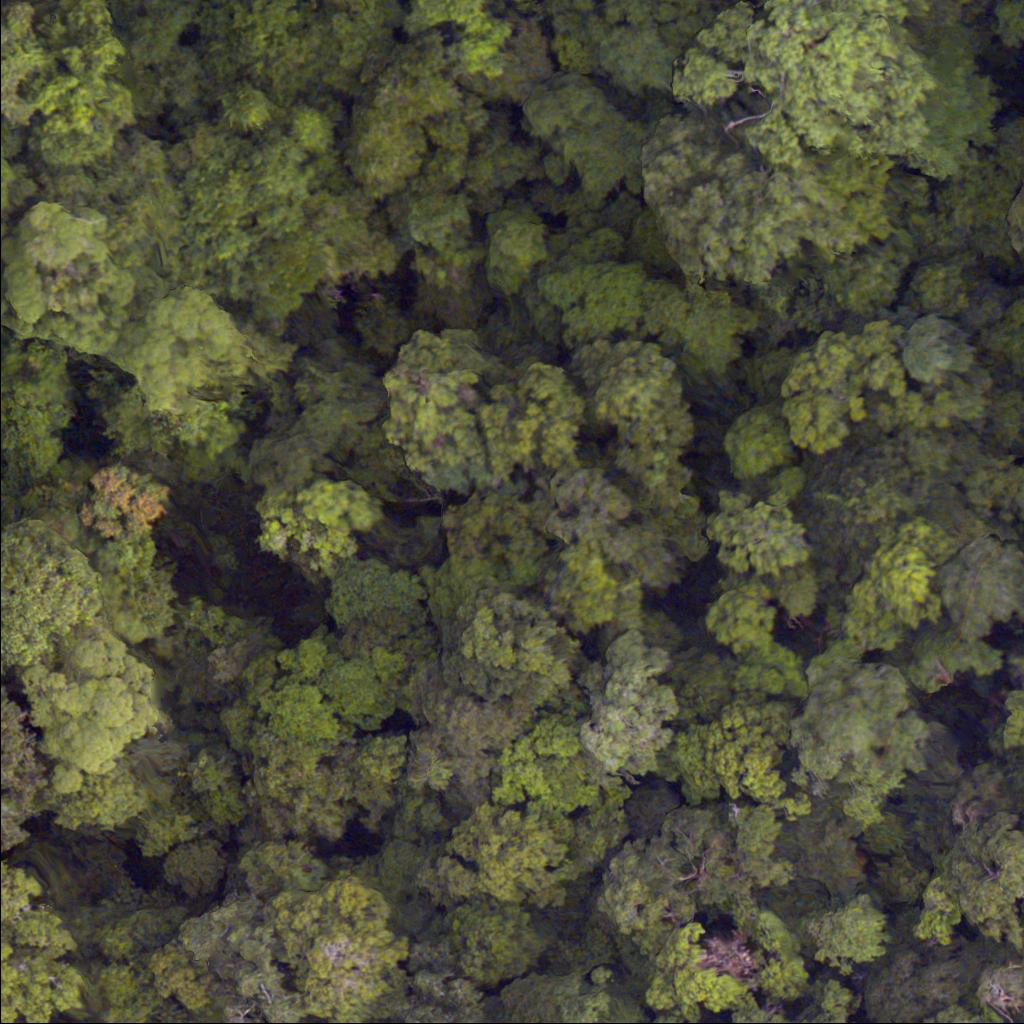crown: (638, 107, 871, 295), (373, 324, 600, 496), (776, 654, 921, 835), (21, 620, 160, 786), (133, 283, 268, 452), (270, 877, 406, 1023), (0, 851, 99, 1023), (776, 324, 915, 446), (178, 897, 302, 1023), (580, 628, 676, 782), (366, 934, 509, 1023), (0, 679, 47, 855), (720, 402, 809, 488), (736, 973, 885, 1023), (0, 134, 19, 227), (1013, 923, 1023, 998)
